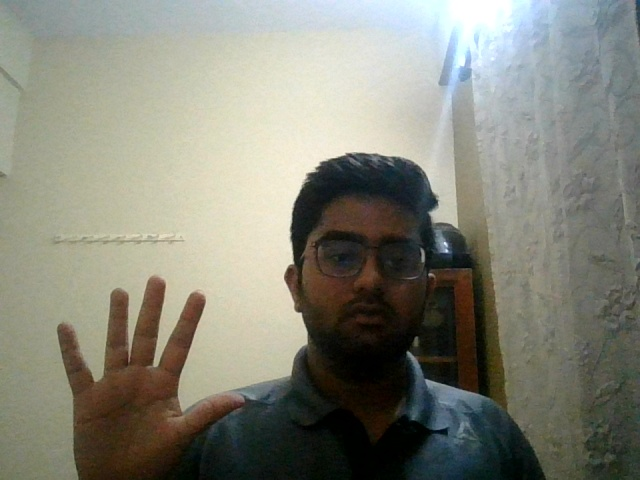Hello: (46, 259, 260, 480)
